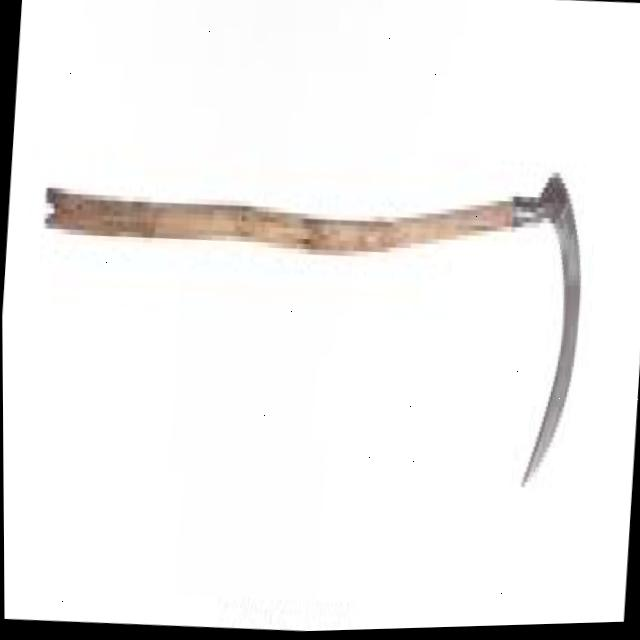sickle: (20, 88, 626, 483)
